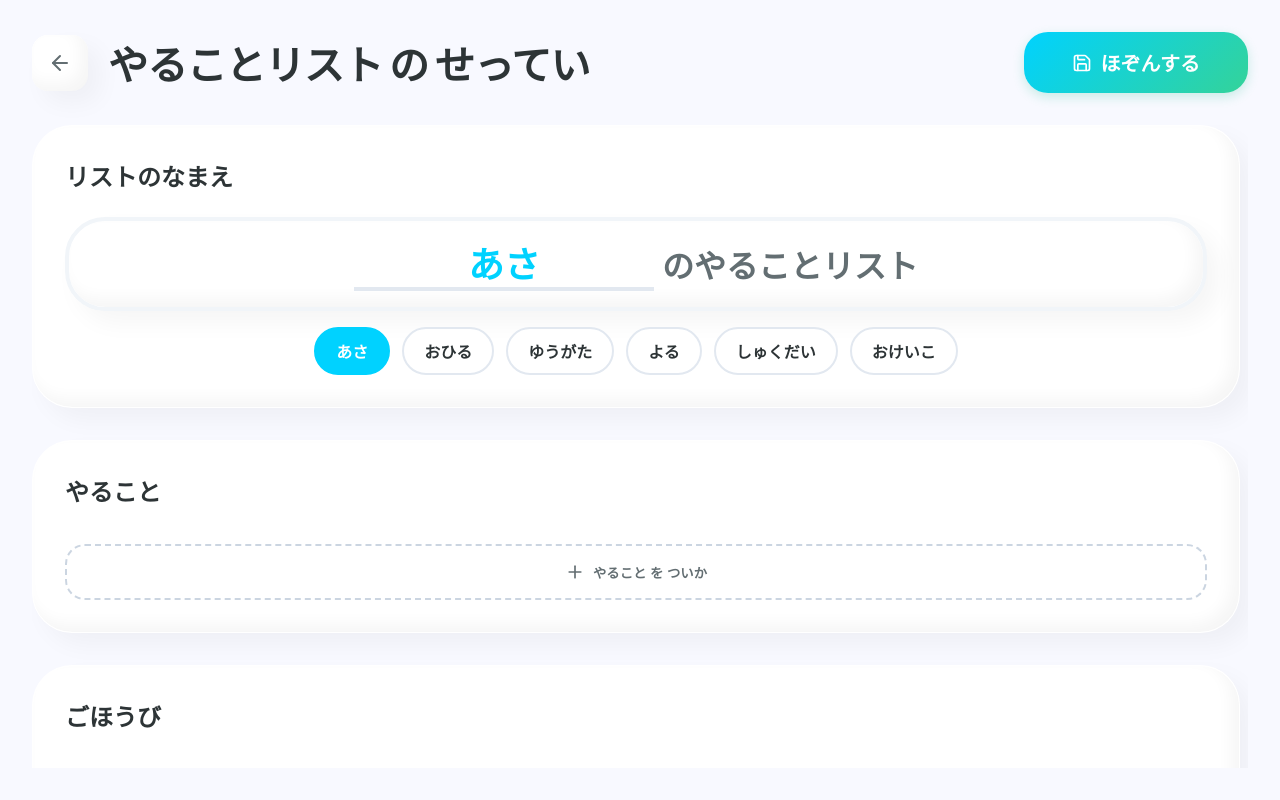
Test case: TodoListSettings › タスクが追加できること
Click the button "やること を ついか" at x=636, y=572, box [65,544,1207,600]
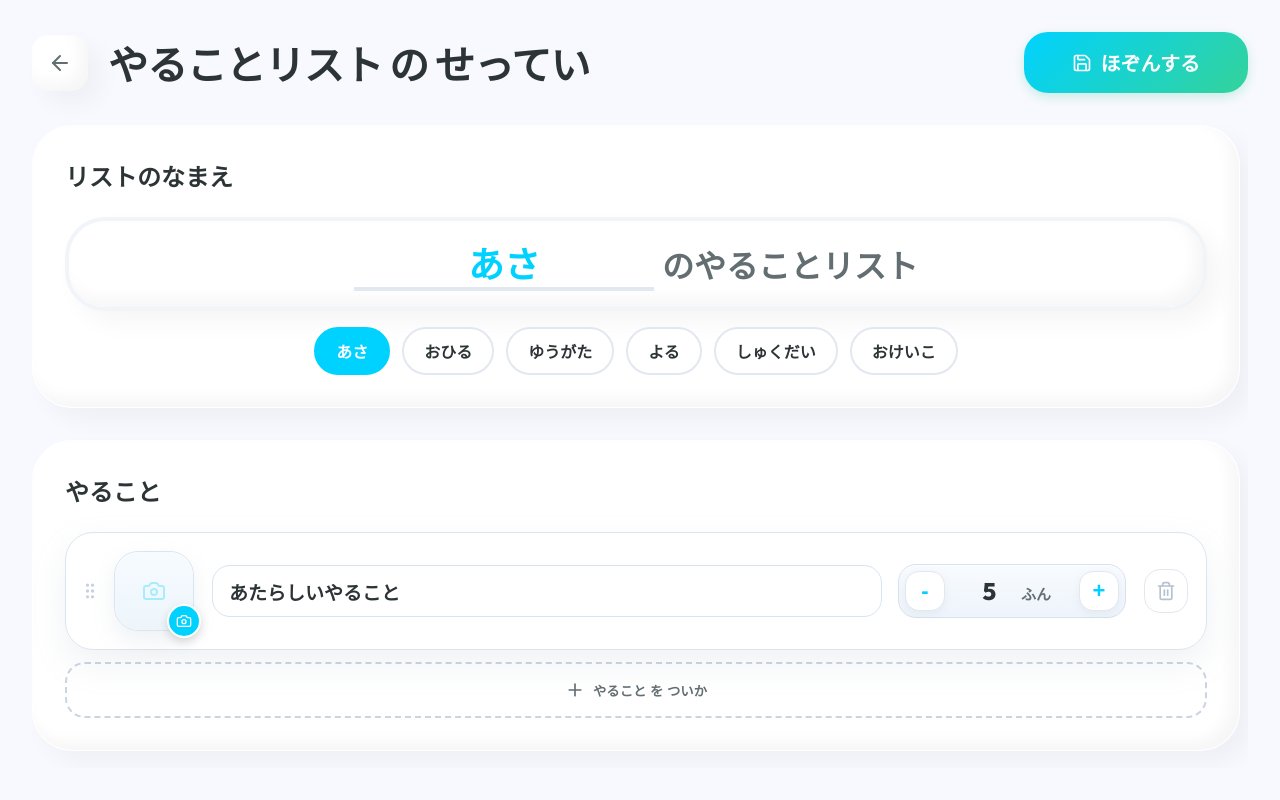
expect the 2nd field showing "あたらしいやること" is shown: met, box [212,565,882,617]
